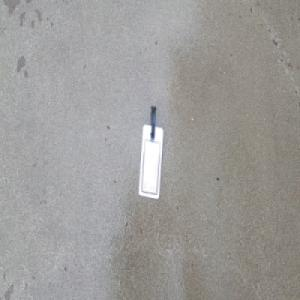LuggageTag: (138, 105, 164, 199)
